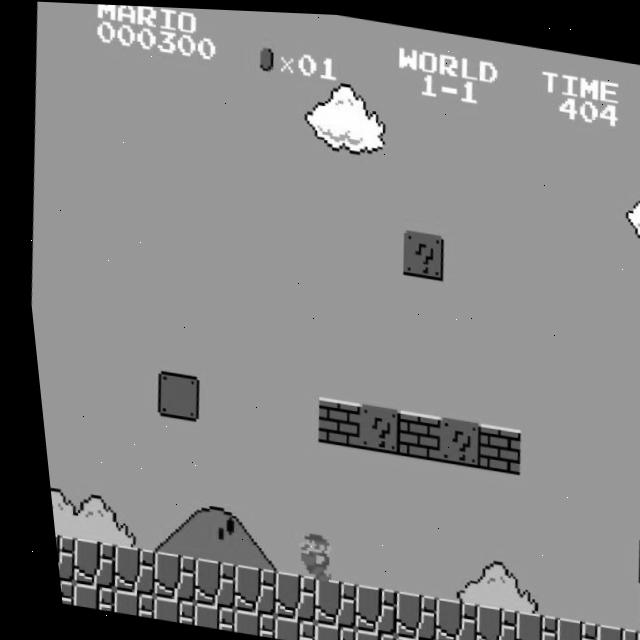1- brick_block: (305, 394, 355, 446), (385, 406, 435, 458), (465, 419, 515, 471)
11- little_mario: (273, 525, 327, 581)
13- mystery_block: (345, 399, 395, 452), (425, 412, 475, 465), (392, 226, 442, 277)
14- pipe: (620, 579, 640, 630)
15- pipe_head: (622, 534, 640, 584)
17- undestructible_block: (377, 587, 428, 639), (57, 536, 107, 589), (137, 549, 187, 602), (217, 561, 267, 614), (297, 574, 347, 627), (97, 543, 147, 595), (177, 556, 227, 608), (257, 568, 307, 620), (338, 581, 388, 633), (417, 593, 468, 640), (458, 599, 508, 640), (497, 606, 547, 640), (537, 611, 587, 640), (98, 588, 143, 618), (138, 594, 183, 624), (58, 582, 103, 611), (178, 601, 223, 630), (218, 607, 263, 636), (43, 531, 67, 583), (258, 613, 304, 640), (578, 617, 627, 640), (298, 619, 344, 640), (338, 625, 383, 640), (47, 576, 62, 604), (379, 631, 423, 640), (618, 624, 640, 640), (418, 638, 462, 640)
3- empty_block: (144, 368, 194, 421)
